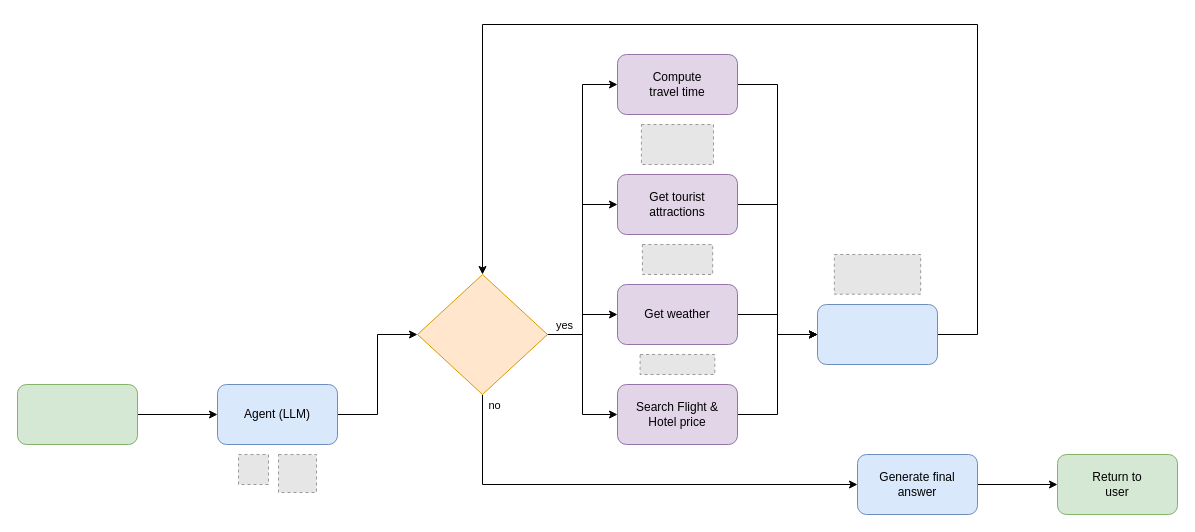
Image size: 1195x532. Some labels were removed from this diagram. Grey dashed boxes stand in for pictures. The shapes that lost their labels are listed below. From the top down, each one's box as (x1, y1, x2, y2) in pixels, then its label:
(416, 274, 548, 394): Need tools call?
(816, 304, 938, 364): Save trip to database
(16, 384, 138, 444): User Input/ Question
